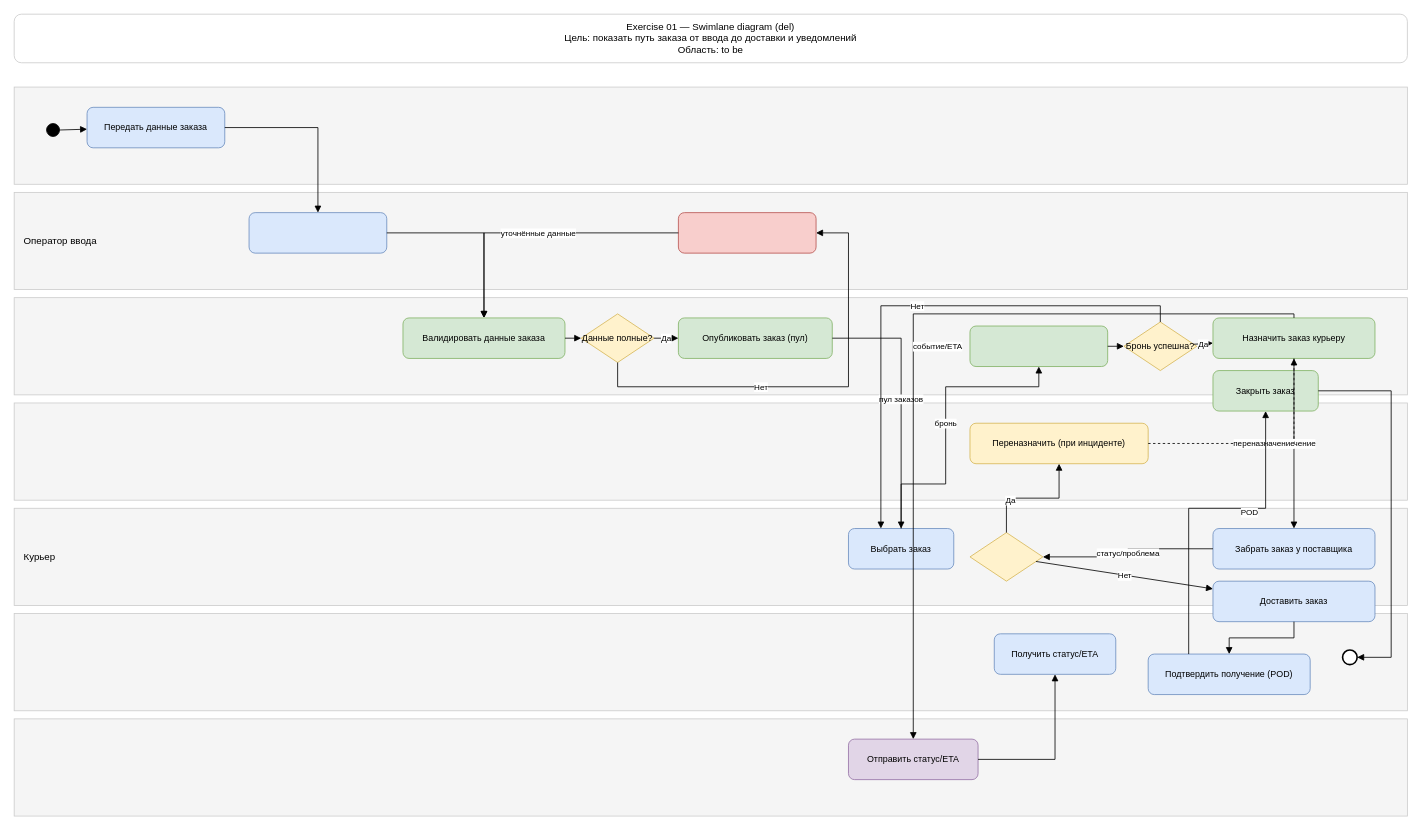
Image size: 1422x830. Some labels were removed from this diagram. The box of each missing label's shape, as (x1, y1, x2, y2) in pixels:
Ввести заказ в систему: (248, 212, 387, 253)
Диспетчер: (13, 402, 1407, 500)
Зарегистрировать бронь: (969, 325, 1108, 367)
Инцидент?: (969, 532, 1043, 581)
Клиент (получатель): (13, 613, 1407, 711)
Поставщик: (13, 86, 1407, 184)
Сервис уведомлений: (13, 718, 1407, 816)
Система доставки: (13, 297, 1407, 395)
Уточнить у поставщика: (678, 212, 816, 253)
